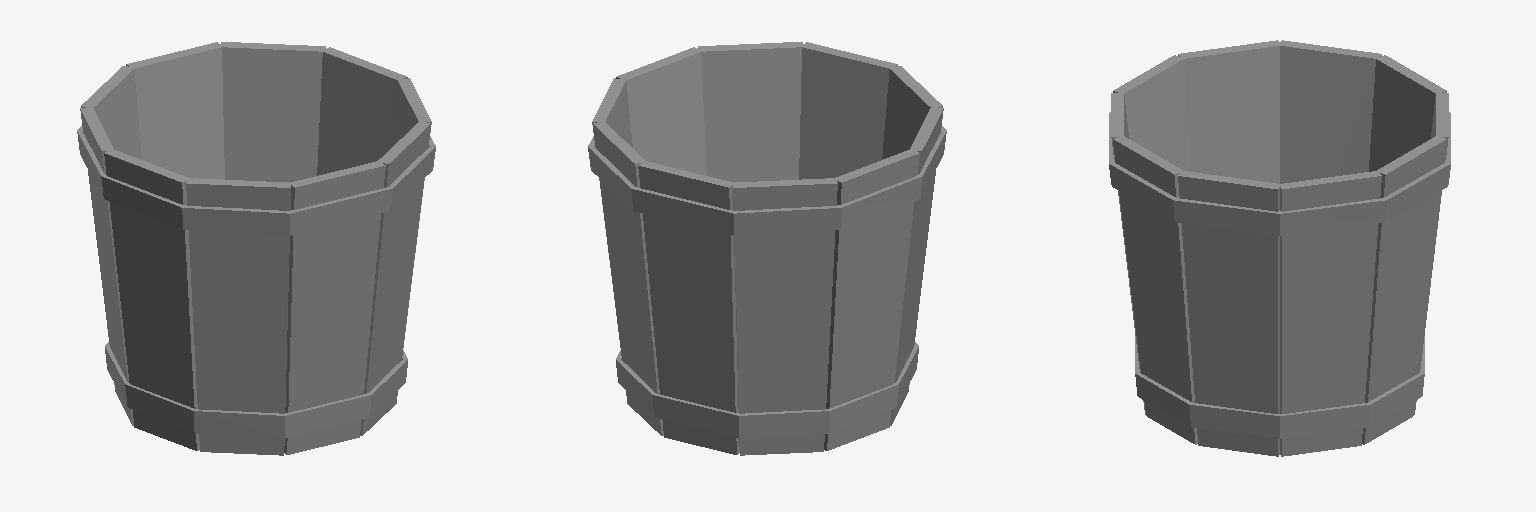
The model's file is Crate05_blend.obj.
The picture shows the model from 3 angles: view 1: azimuth 30°, elevation 25°; view 2: azimuth 150°, elevation 25°; view 3: azimuth 270°, elevation 25°; orthographic projection.
Visible parts, largest first — view 1: Crate_05; view 2: Crate_05; view 3: Crate_05.
Part boxes in pixels (left/top/right/bottom): Crate_05: left=77, top=42, right=435, bottom=455; Crate_05: left=588, top=42, right=946, bottom=455; Crate_05: left=1109, top=40, right=1450, bottom=456.
Size of the model in its own units: 0.2238 by 0.195 by 0.2146.